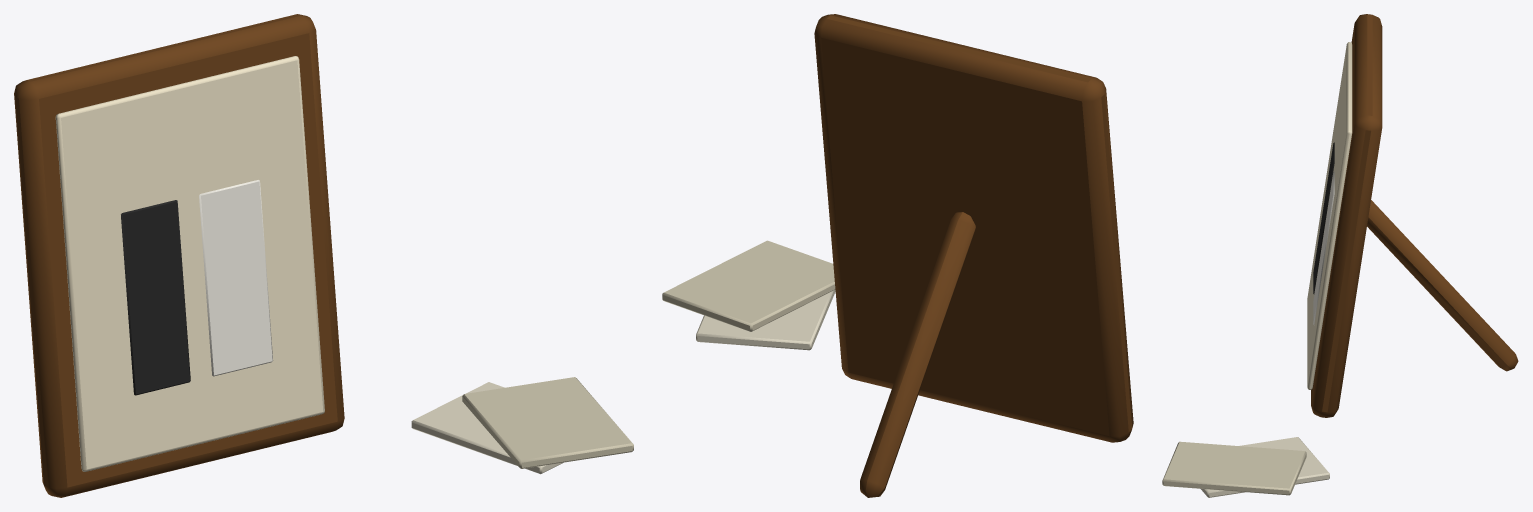
The model's file is KhungAnh_CuoiNho.glb.
3 views of the same model, side by side, from view 1: azimuth 30°, elevation 25°; view 2: azimuth 150°, elevation 25°; view 3: azimuth 270°, elevation 25° (orthographic). The views are drawn at different scales.
Visible parts, largest first — view 1: KhungAnh_CuoiNho; view 2: KhungAnh_CuoiNho; view 3: KhungAnh_CuoiNho.
Part boxes in pixels (x1=…): KhungAnh_CuoiNho: x1=14, y1=14, x2=633, y2=497; KhungAnh_CuoiNho: x1=662, y1=14, x2=1133, y2=497; KhungAnh_CuoiNho: x1=1162, y1=14, x2=1518, y2=497.
Size of the model in its own units: 0.2406 by 0.1807 by 0.1908.
